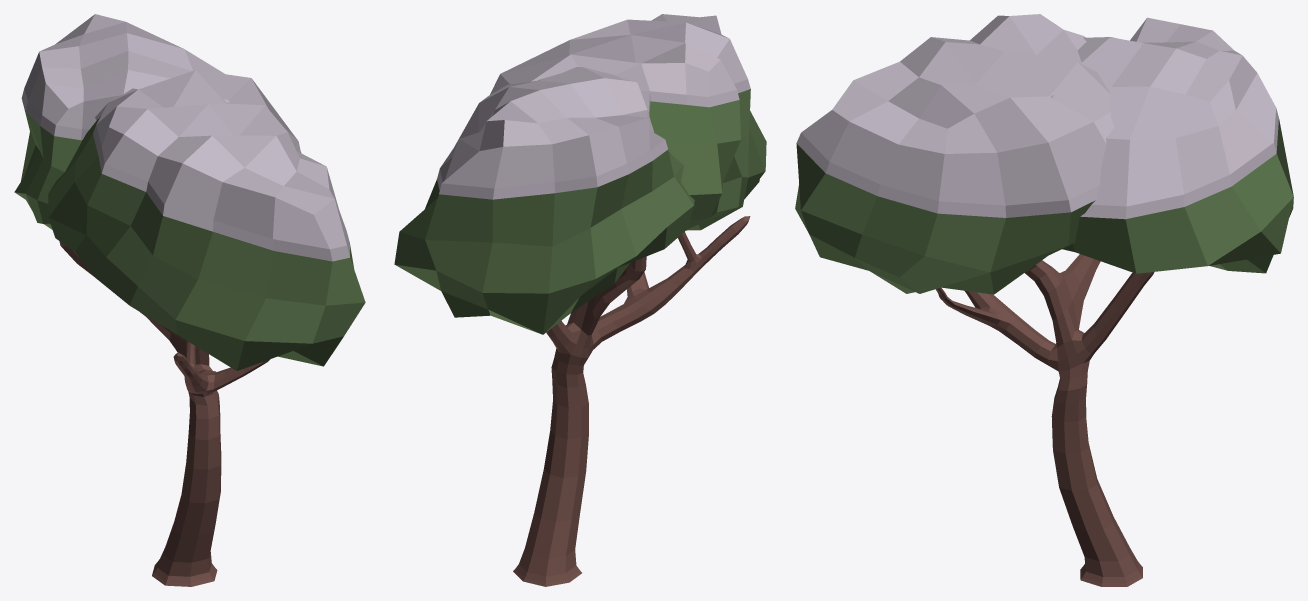
Rendered from commontree_snow_5.glb.
3 renders of one model, left to right at view 1: azimuth 30°, elevation 25°; view 2: azimuth 150°, elevation 25°; view 3: azimuth 270°, elevation 25°, orthographic. The views are drawn at different scales.
Visible parts, largest first — view 1: CommonTree_Snow_5; view 2: CommonTree_Snow_5; view 3: CommonTree_Snow_5.
Part boxes in pixels (box(x1,y1,x2,y2)): CommonTree_Snow_5: box(14, 14, 365, 586); CommonTree_Snow_5: box(394, 14, 766, 586); CommonTree_Snow_5: box(795, 14, 1293, 586).
Bounding box in the file's own units: 3.1 × 6.16 × 5.39.
